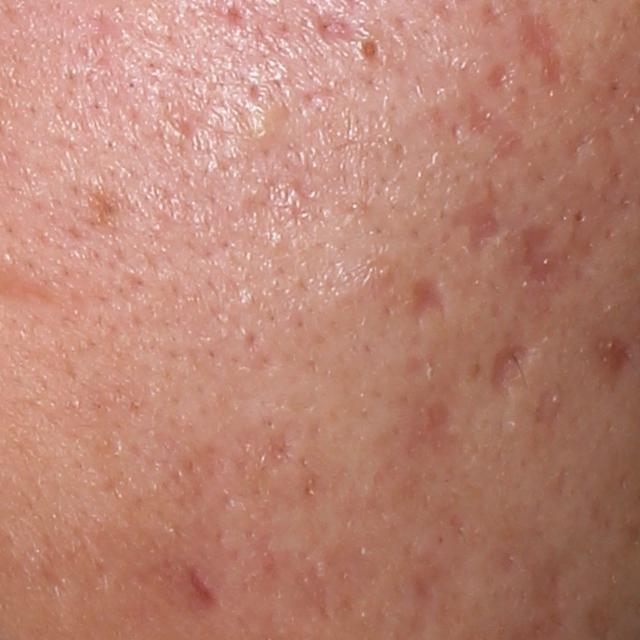atrophic_scar: (505, 218, 565, 295), (453, 179, 510, 257), (405, 393, 468, 462), (488, 338, 541, 403), (587, 335, 635, 391), (408, 272, 453, 331), (463, 87, 506, 138), (189, 563, 223, 609), (252, 430, 296, 464), (566, 122, 600, 166), (482, 59, 519, 93), (318, 11, 355, 44), (482, 0, 506, 31)
comedo: (352, 33, 390, 66)
